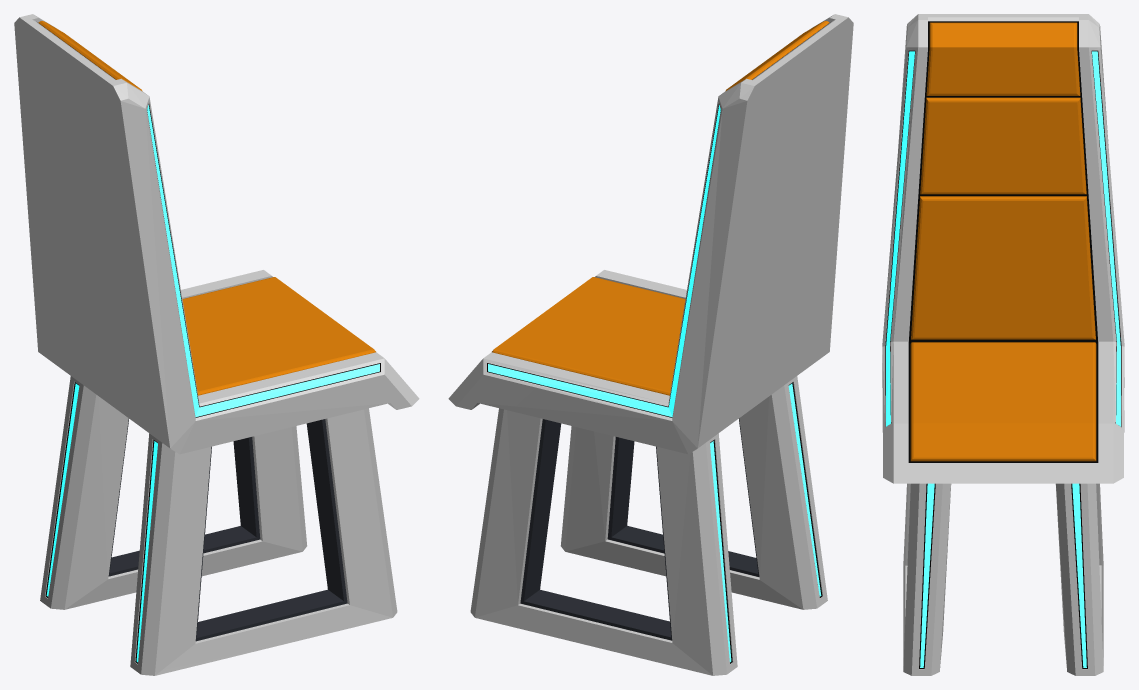
The model's file is chair.glb.
3 views of the same model, side by side, from view 1: azimuth 30°, elevation 25°; view 2: azimuth 150°, elevation 25°; view 3: azimuth 270°, elevation 25° (orthographic). The views are drawn at different scales.
Visible parts, largest first — view 1: SM_SimpleChair; view 2: SM_SimpleChair; view 3: SM_SimpleChair.
Part boxes in pixels (x1,y1,x2,y2): SM_SimpleChair: [14, 14, 419, 675]; SM_SimpleChair: [448, 14, 853, 675]; SM_SimpleChair: [882, 14, 1124, 675].
Size of the model in its own units: 0.5737 by 1.11 by 0.4532.
